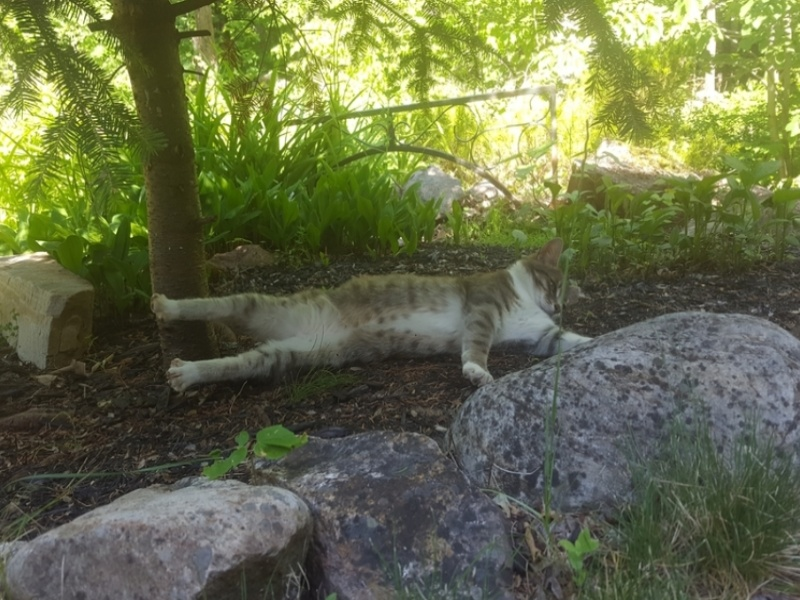cat: (146, 237, 599, 397)
